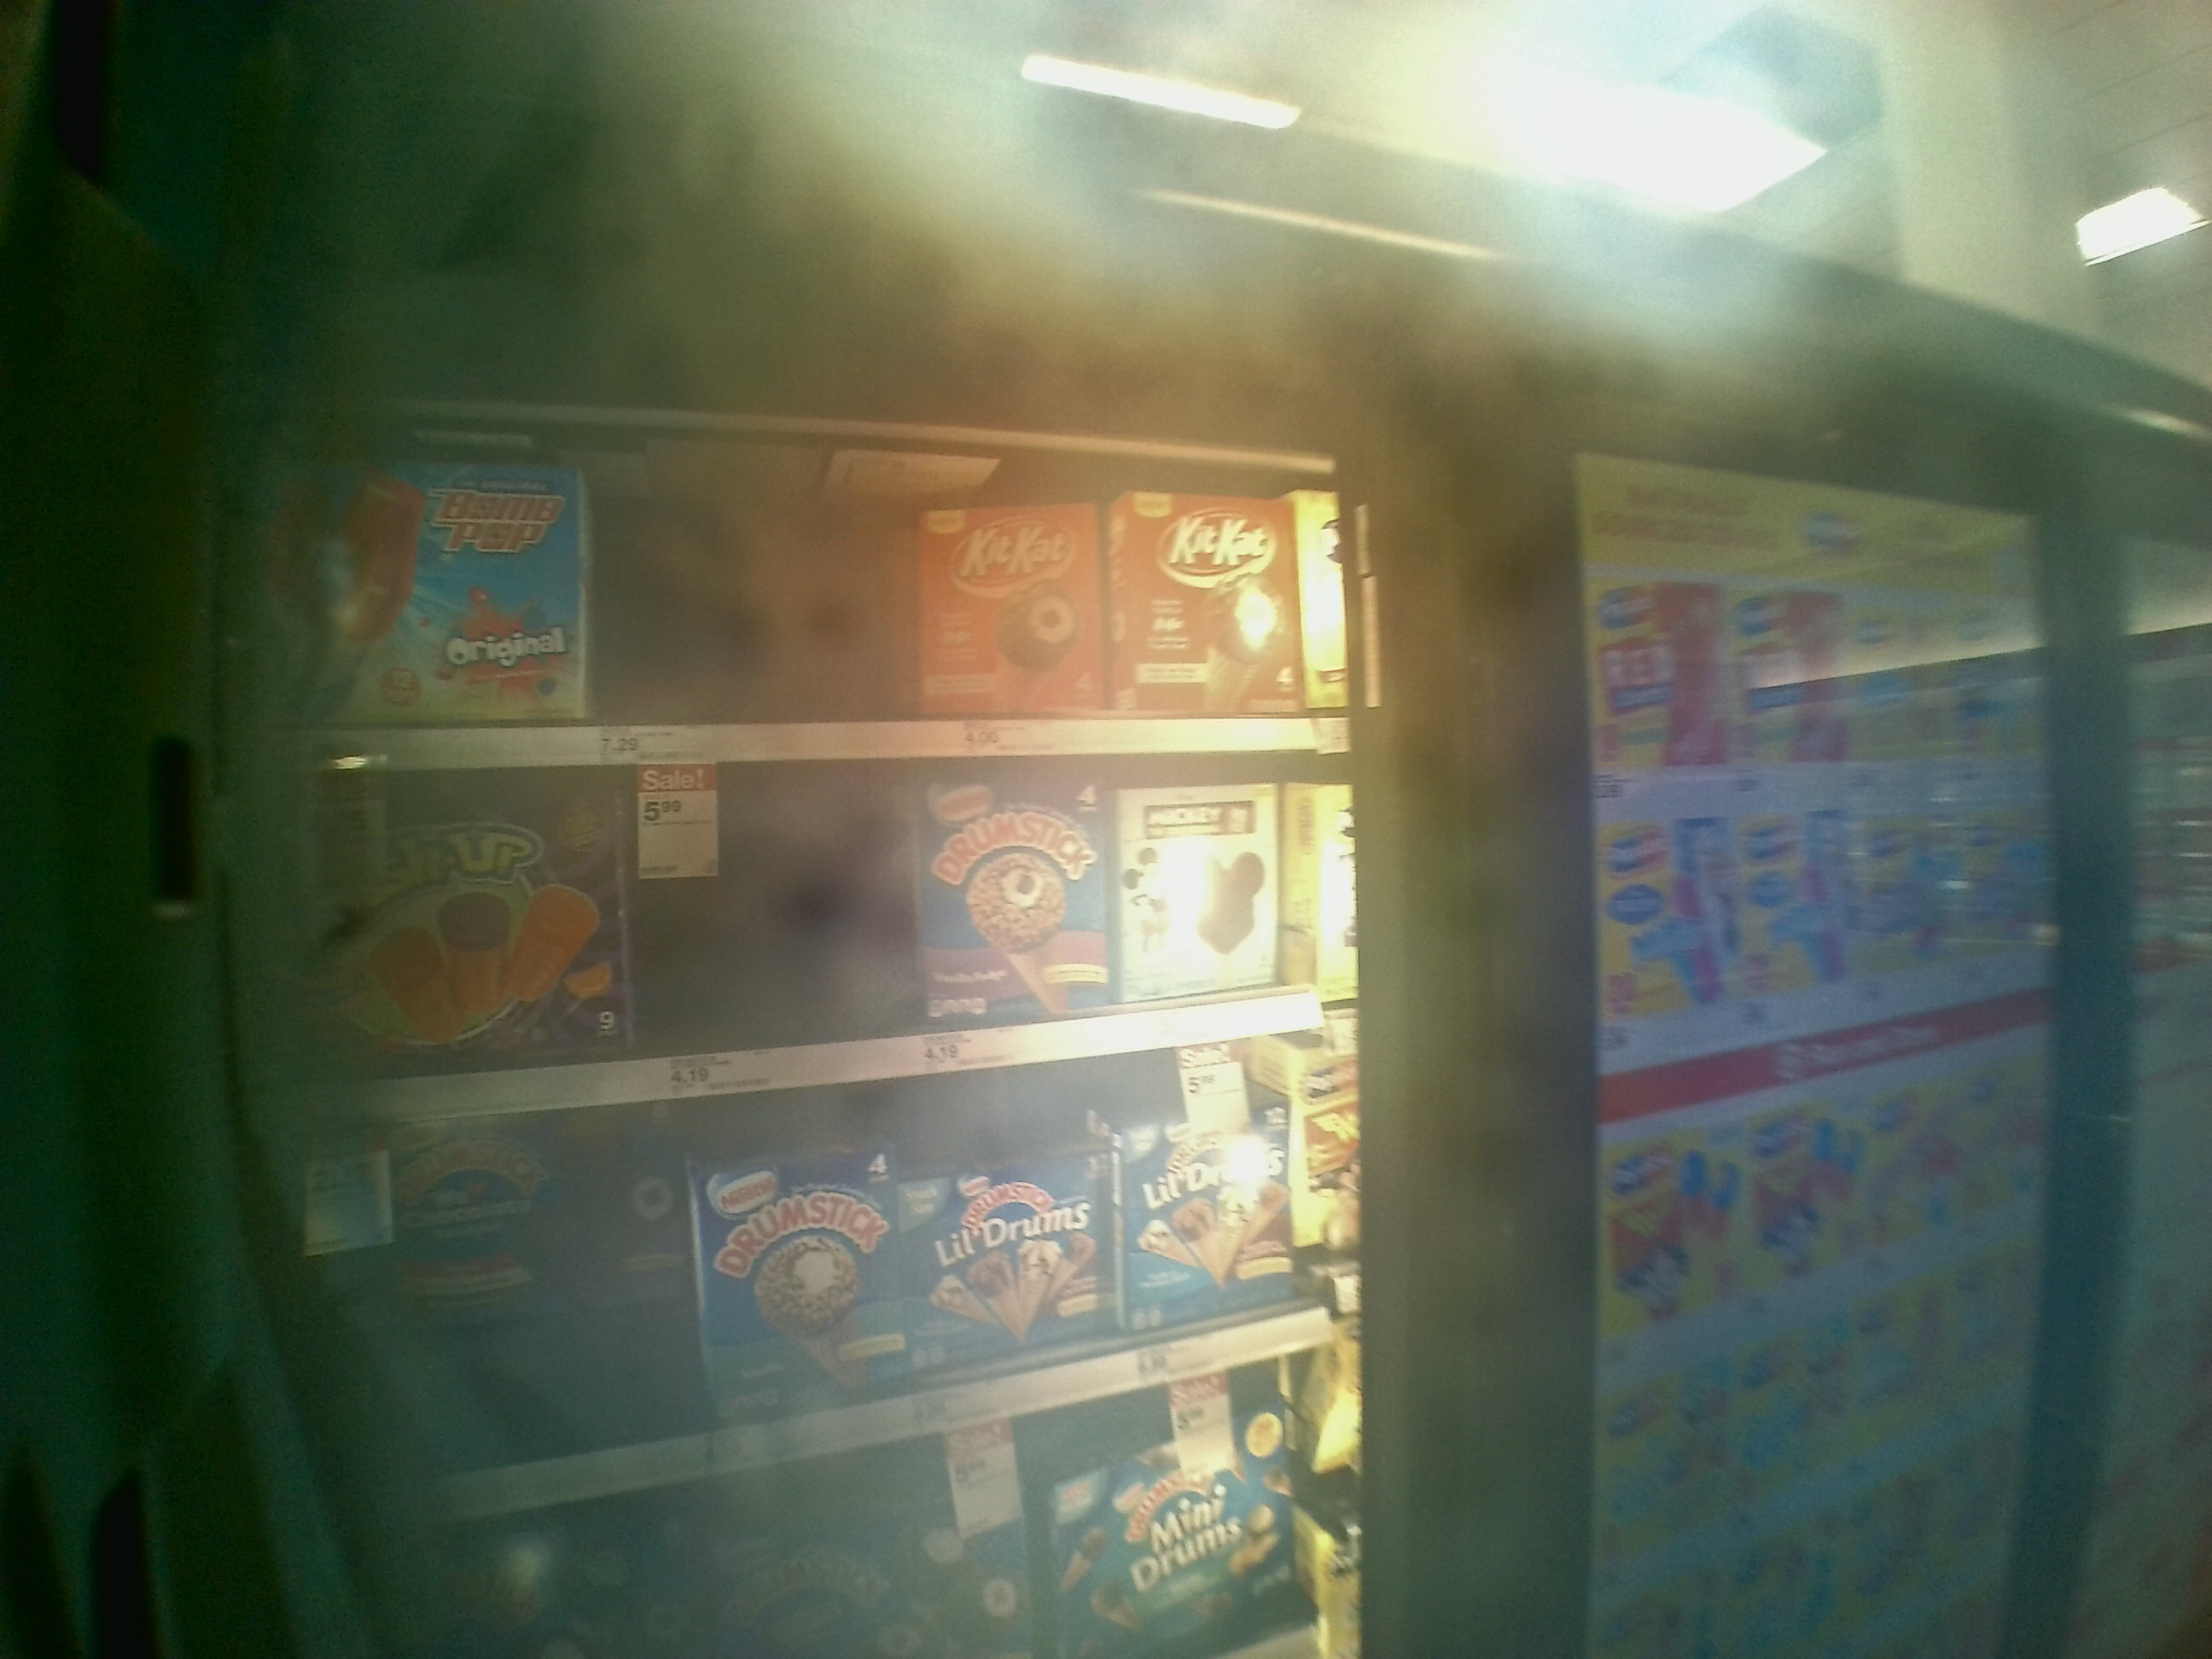shelf: (324, 1025, 1360, 1532), (320, 758, 1367, 1110), (320, 420, 1360, 762)
